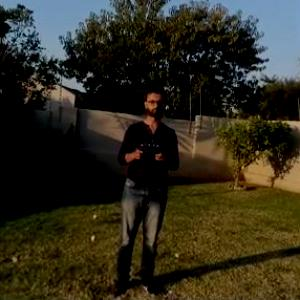follow: (99, 80, 184, 299)
